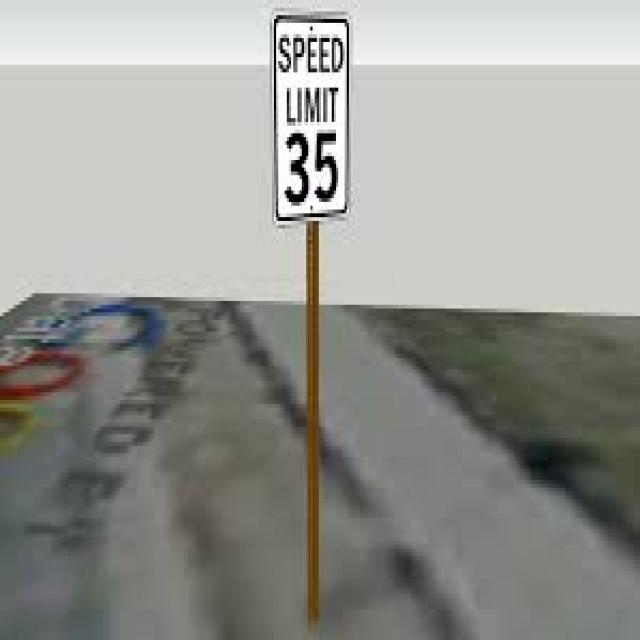speedLimit35: (270, 6, 346, 215)
